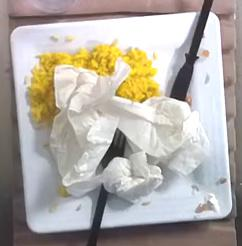rice: (28, 39, 159, 124)
